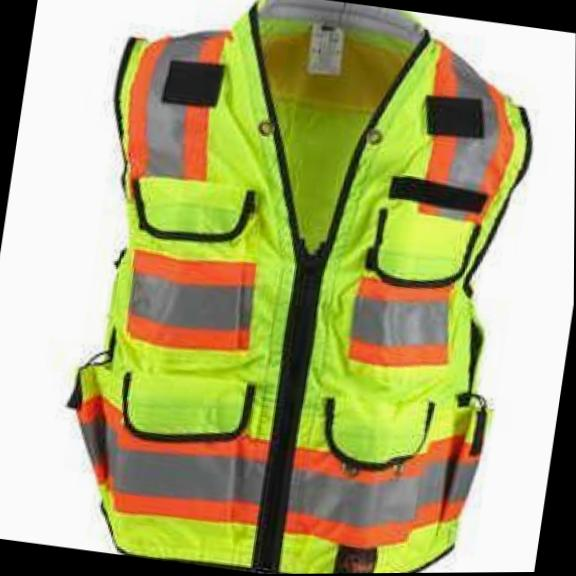safety_vest: (42, 0, 553, 576)
